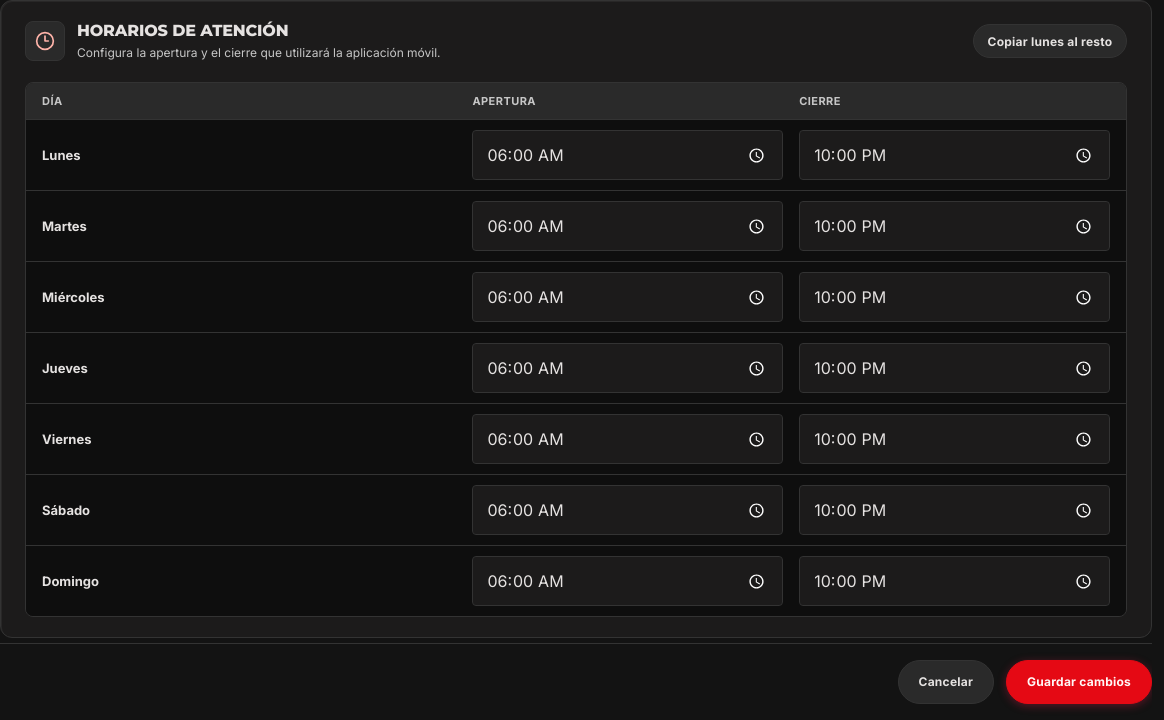
Test: EmpresaForm › carga los horarios reales y rechaza un cierre anterior a la apertura
(page scrolled)
Expected: the time field with id "horario-inicio-lunes" holds "06:00", [472,130,783,180]
Expected: the time field with id "horario-fin-domingo" holds "22:00", [799,556,1110,606]
Replace the text in the time field with id "horario-inicio-domingo" with "18:00" at (628, 581), box [472,556,783,606]
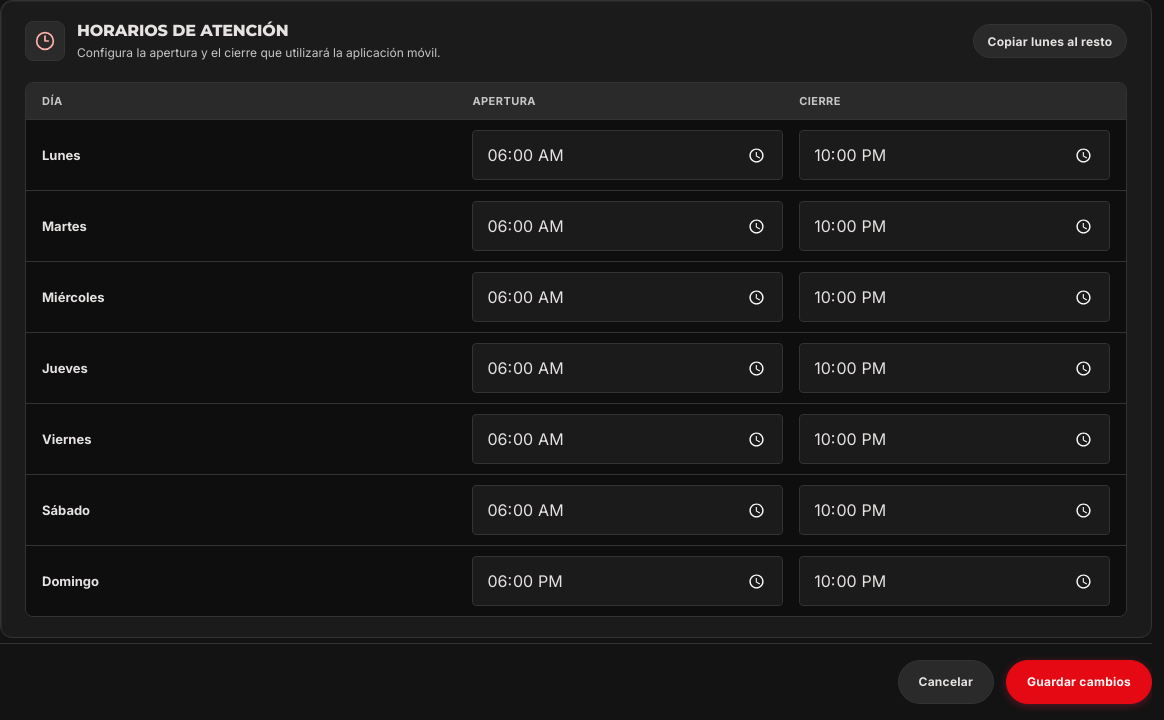
Replace the text in the time field with id "horario-fin-domingo" with "13:00" at (955, 581), box [799,556,1110,606]
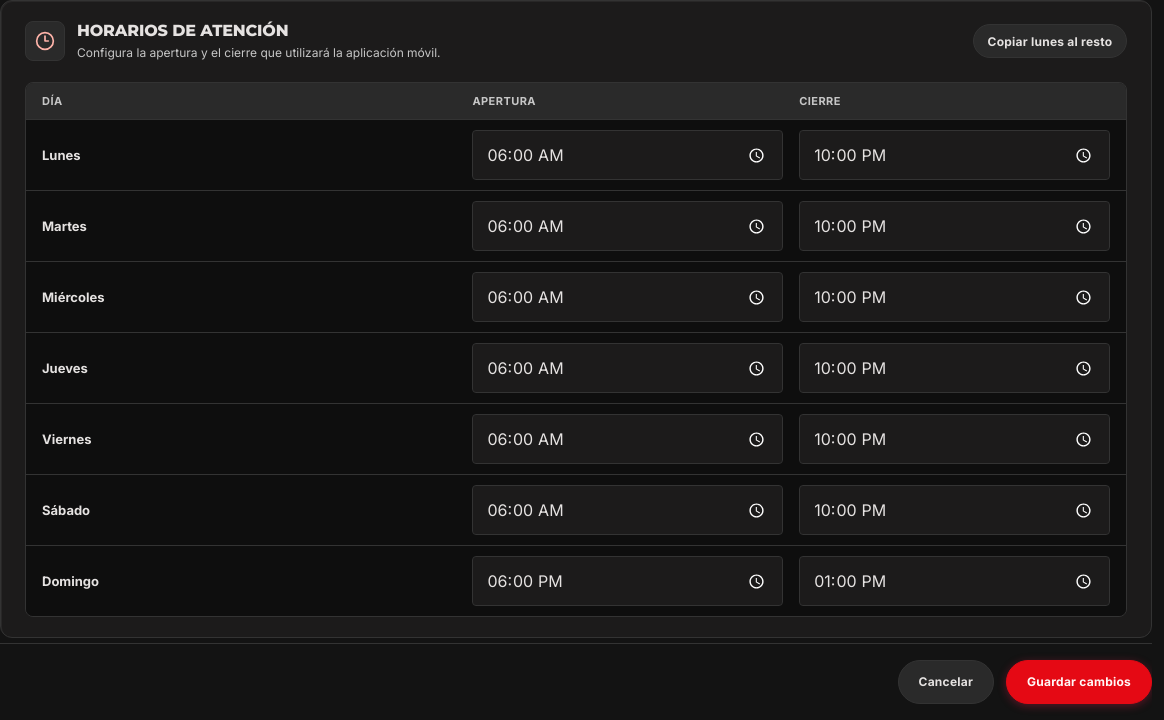
Submit the form
(page scrolled)
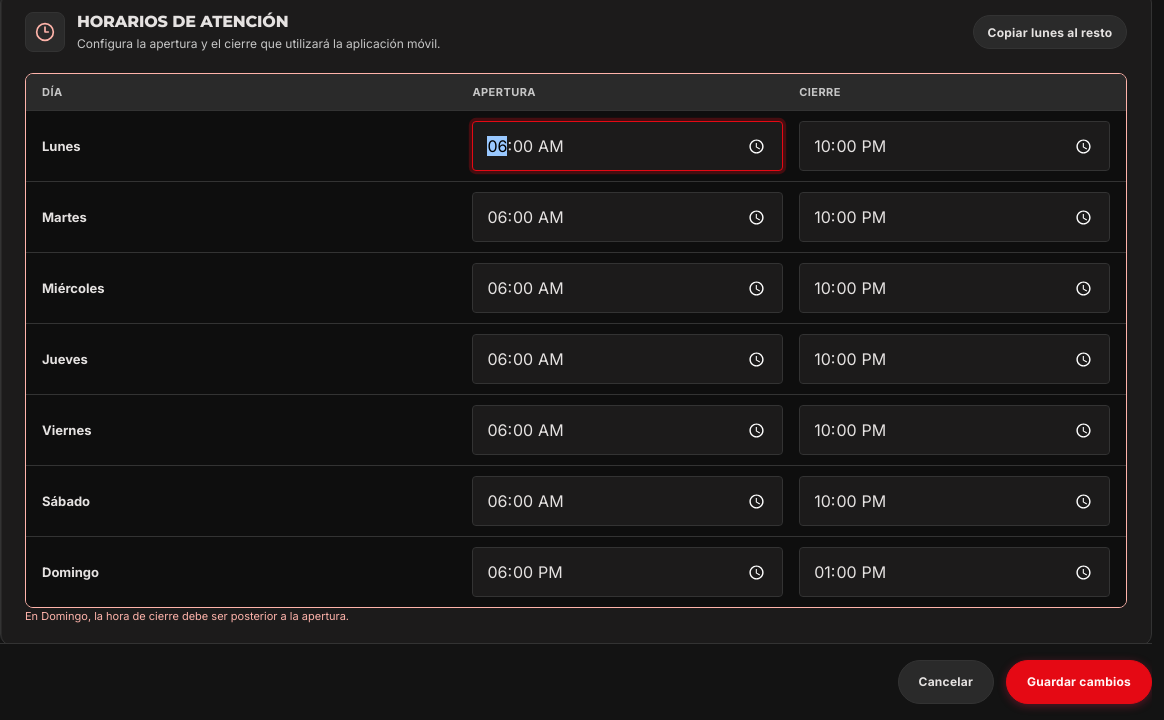
Expected: the form shows "la hora de cierre debe ser posterior", [25,609,349,623]
